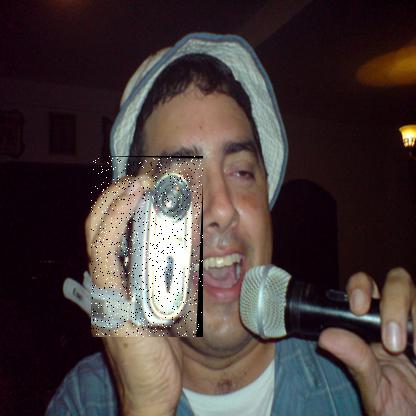Camera: (92, 157, 205, 339)
